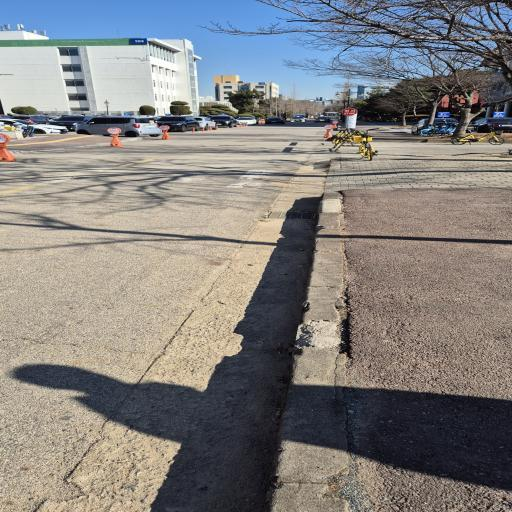drain: (268, 212, 316, 218)
